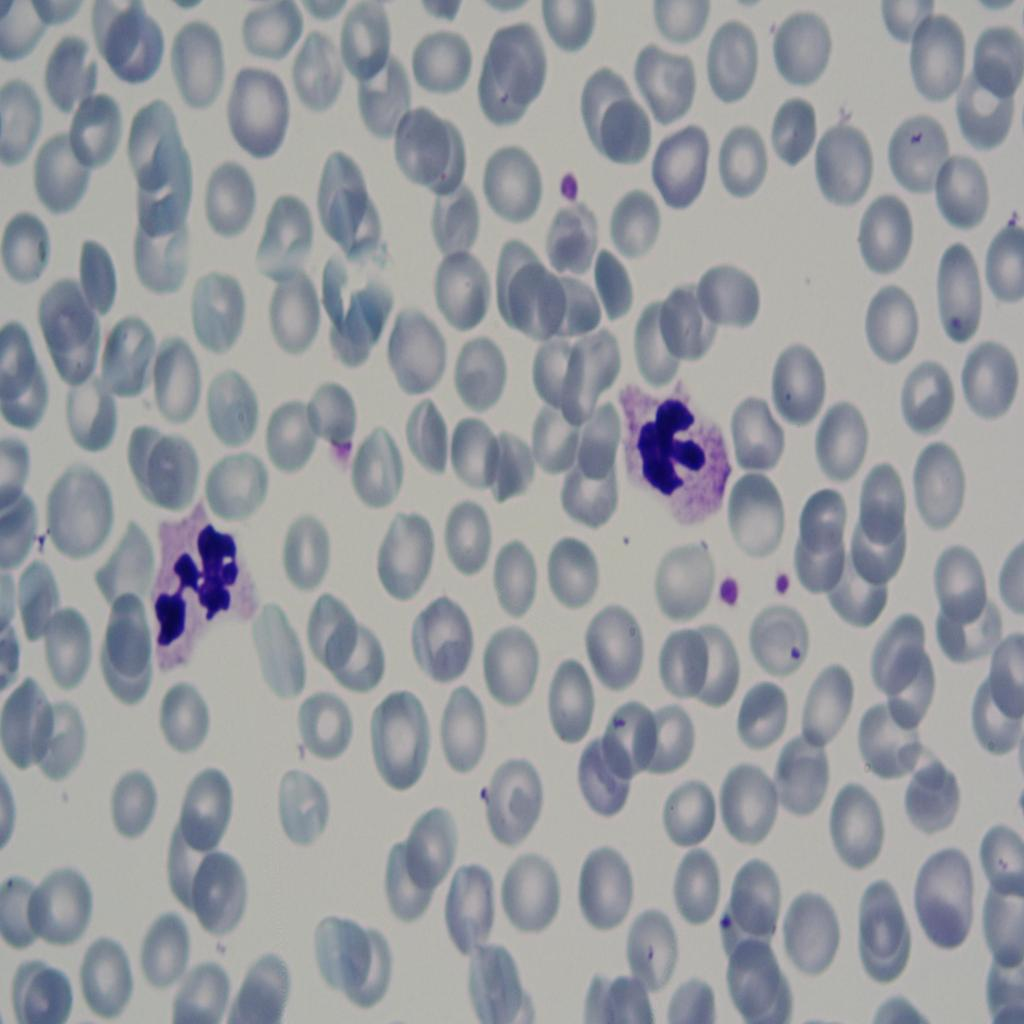Neutrofil: (137, 490, 248, 680), (618, 366, 737, 531)
Platelet: (547, 164, 577, 224), (711, 896, 738, 940), (784, 632, 809, 679), (718, 578, 747, 617), (770, 567, 798, 602), (468, 774, 495, 804)
